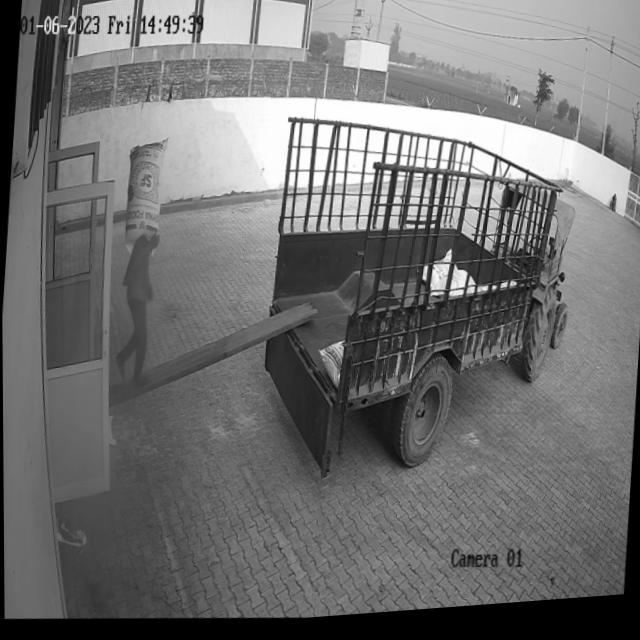sack: (120, 137, 169, 249)
